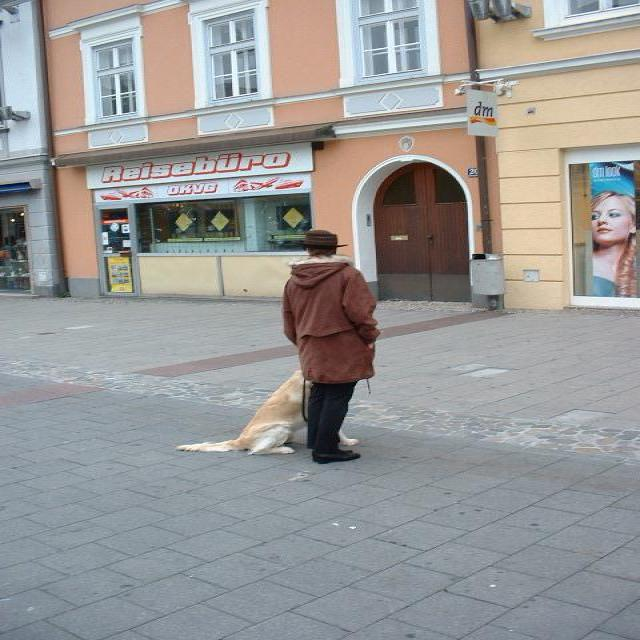non-fight: (274, 227, 389, 466)
